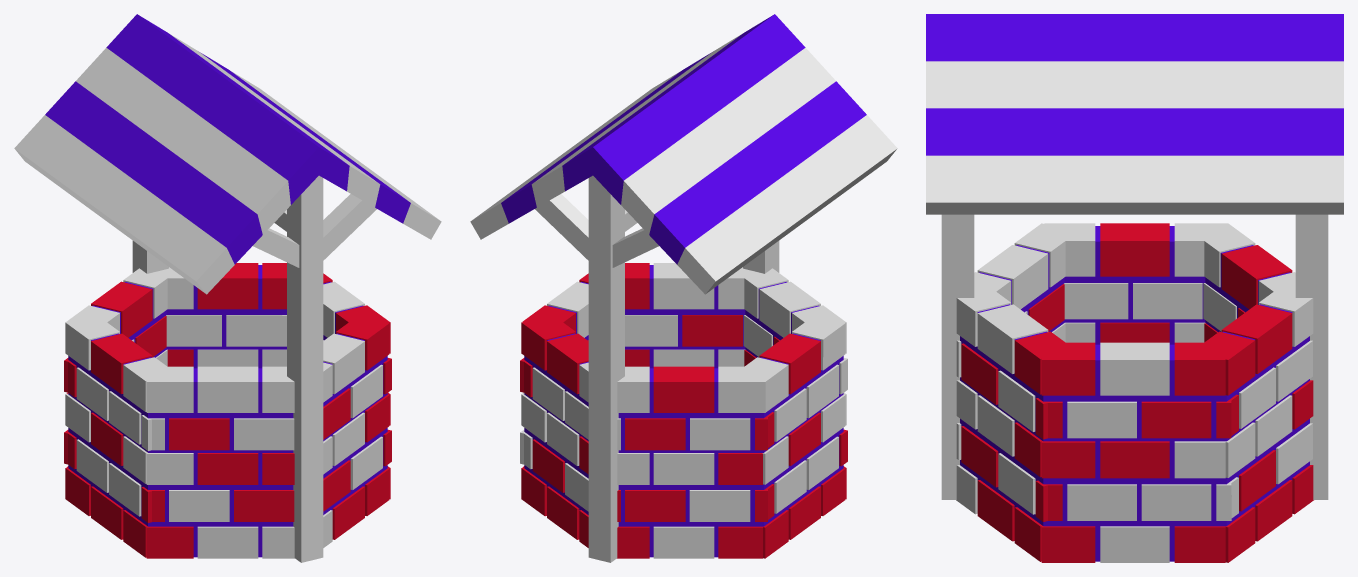
The model's file is well_high.fbx.
3 renders of one model, left to right at view 1: azimuth 30°, elevation 25°; view 2: azimuth 150°, elevation 25°; view 3: azimuth 270°, elevation 25°, orthographic. The views are drawn at different scales.
Parts seen in each view (by area): view 1: Well_High; view 2: Well_High; view 3: Well_High.
Part boxes in pixels (left/top/right/bottom): Well_High: left=14, top=14, right=441, bottom=562; Well_High: left=470, top=14, right=897, bottom=562; Well_High: left=926, top=14, right=1343, bottom=562.
Bounding box in the file's own units: 125 × 202 × 159.
